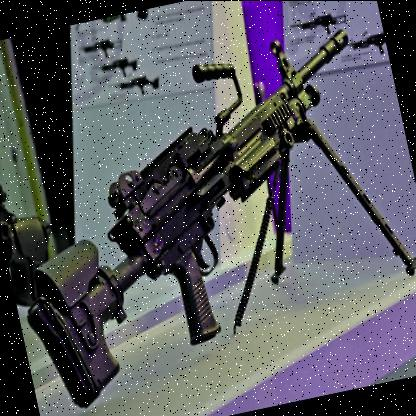rifle: (0, 17, 416, 381), (286, 9, 344, 42), (110, 72, 164, 106), (346, 27, 389, 64), (76, 33, 125, 64), (95, 54, 144, 82)
